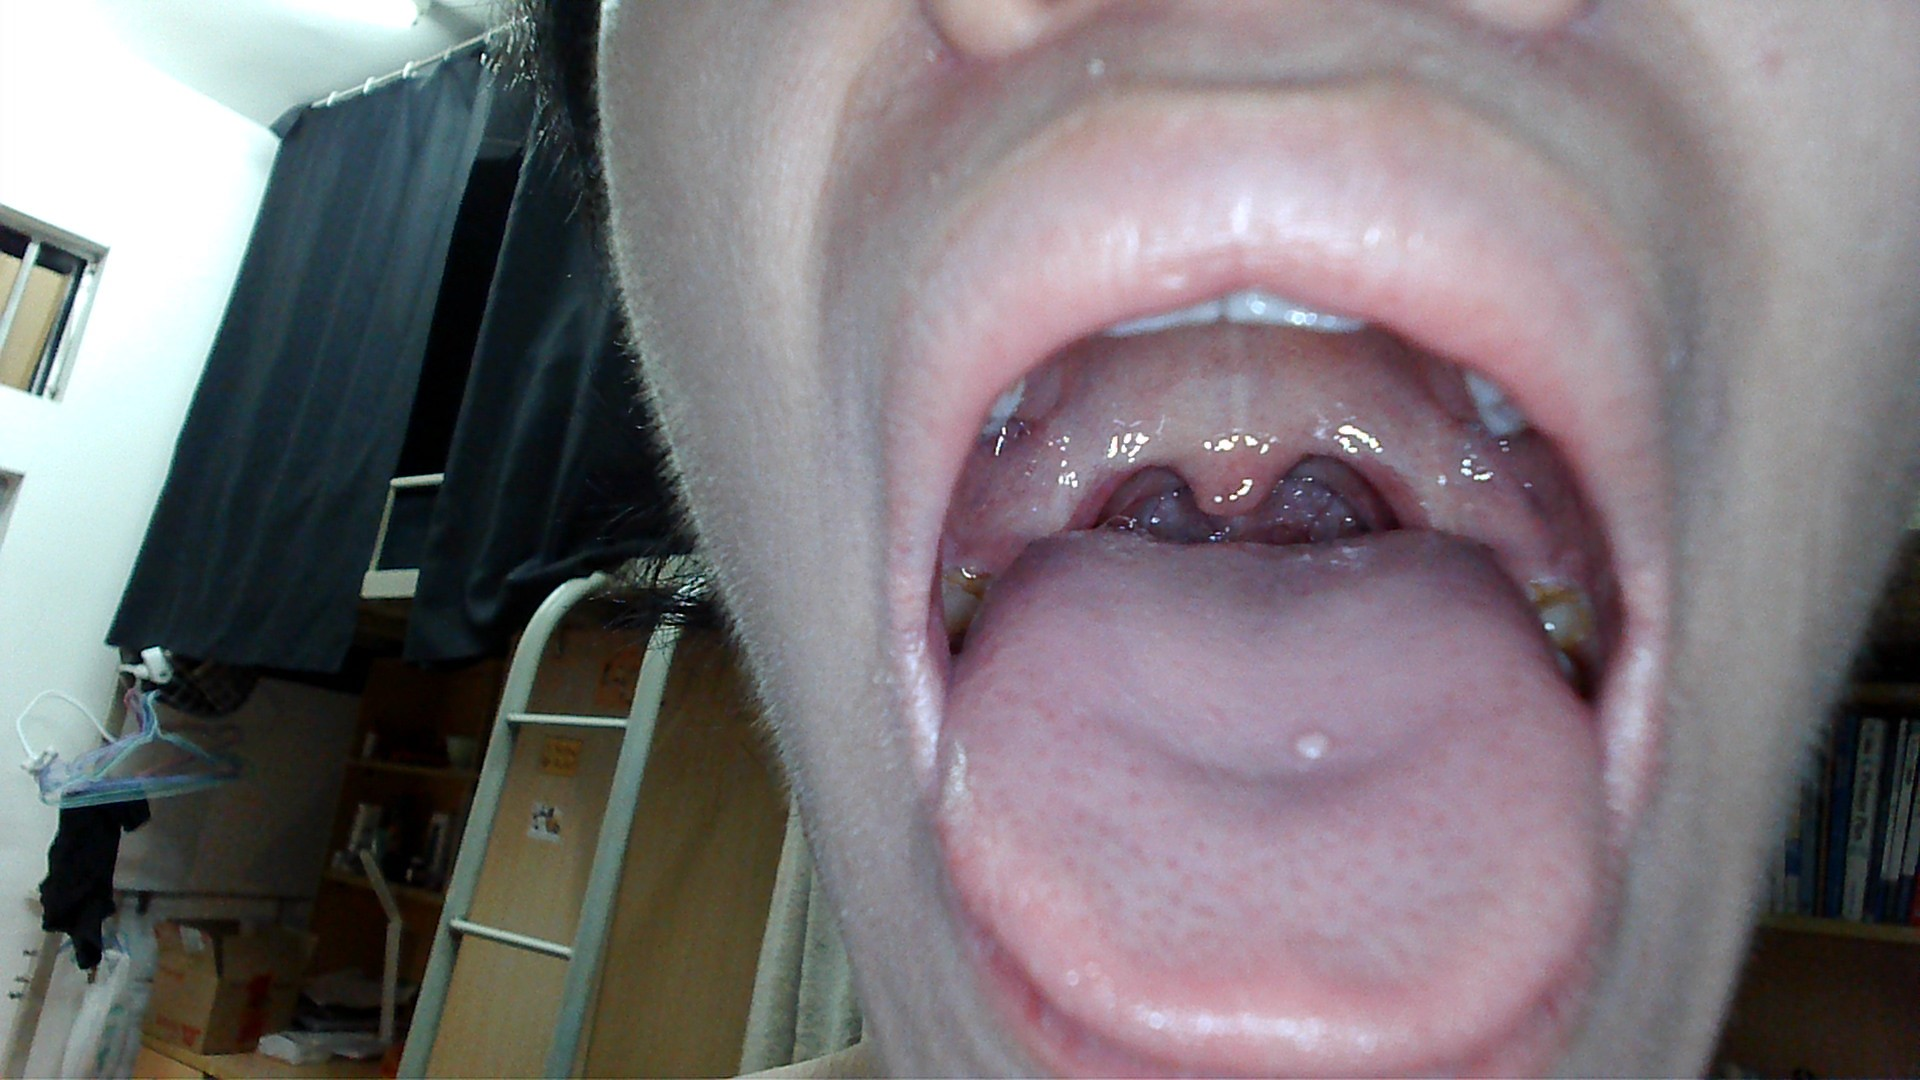throat: (1354, 429, 1437, 524), (1065, 440, 1134, 524)
